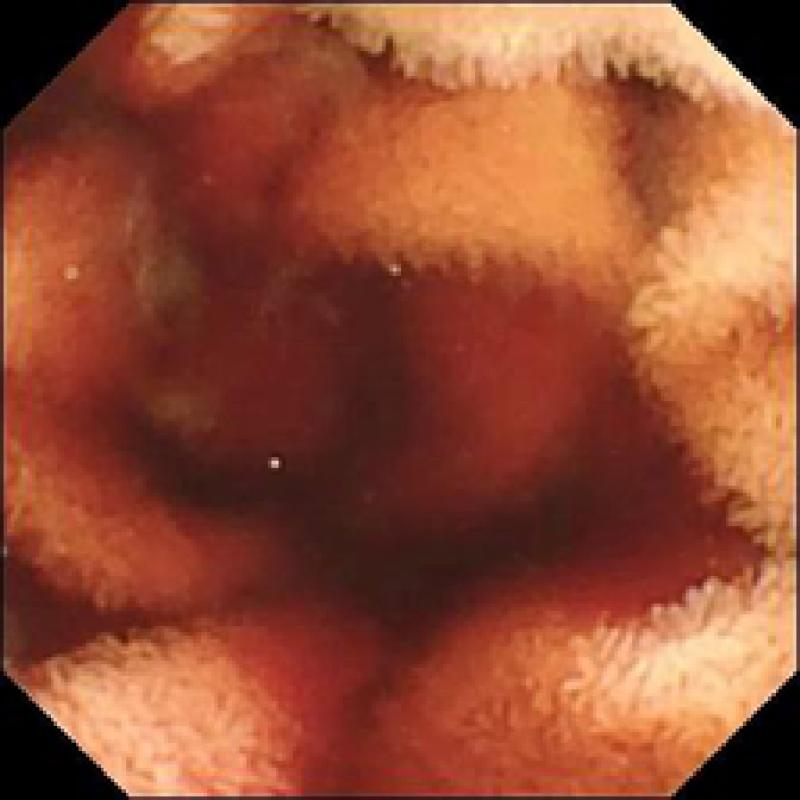bleeding: (0, 50, 757, 800)
